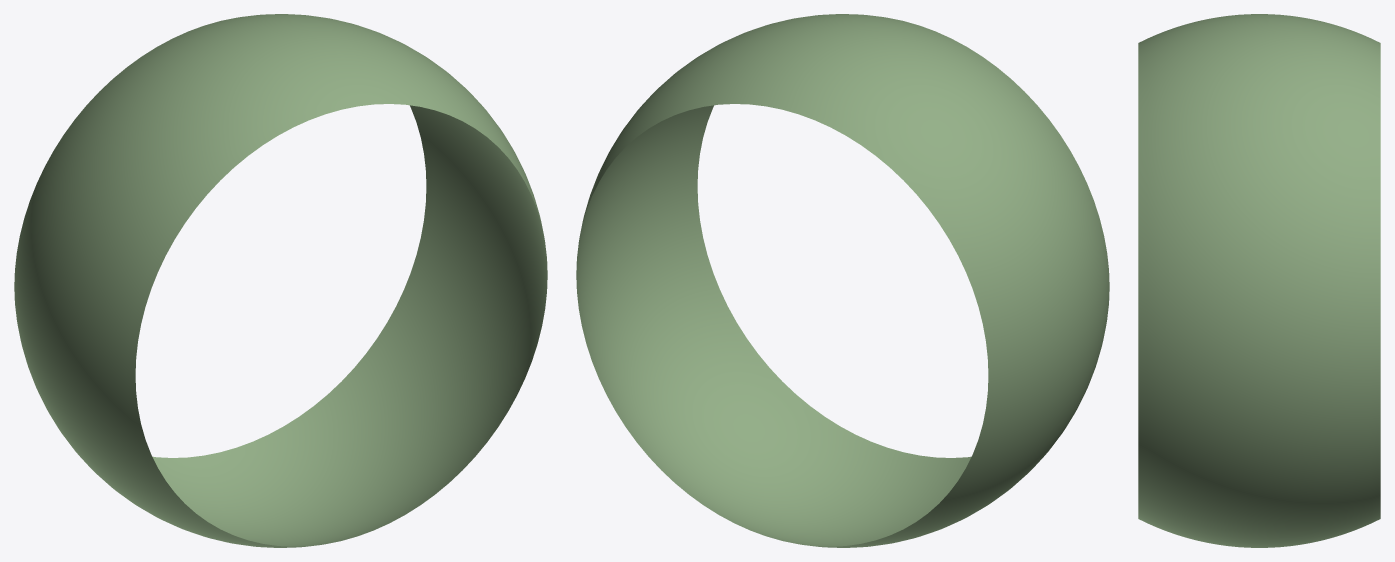
File: world_100x80x80.fbx
3 renders of one model, left to right at view 1: azimuth 30°, elevation 25°; view 2: azimuth 150°, elevation 25°; view 3: azimuth 270°, elevation 25°, orthographic.
Parts seen in each view (by area): view 1: world_map_24x80x80; view 2: world_map_24x80x80; view 3: world_map_24x80x80.
Part boxes in pixels (x1=…): world_map_24x80x80: x1=14, y1=14, x2=547, y2=547; world_map_24x80x80: x1=576, y1=14, x2=1109, y2=547; world_map_24x80x80: x1=1138, y1=14, x2=1380, y2=547.
Size of the model in its own units: 5000 by 5000 by 2270.
